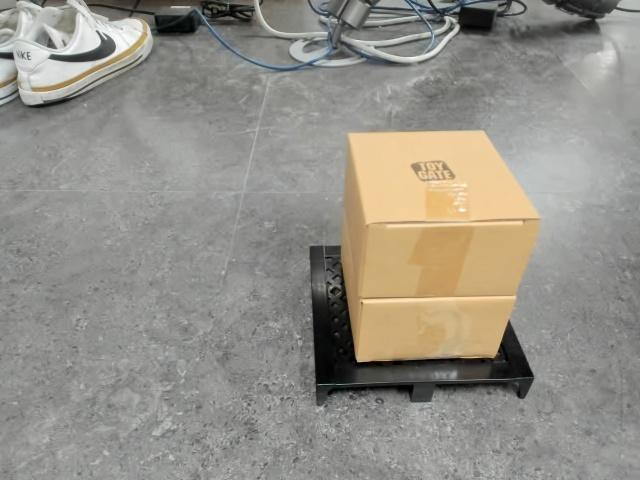box: (311, 130, 539, 402)
